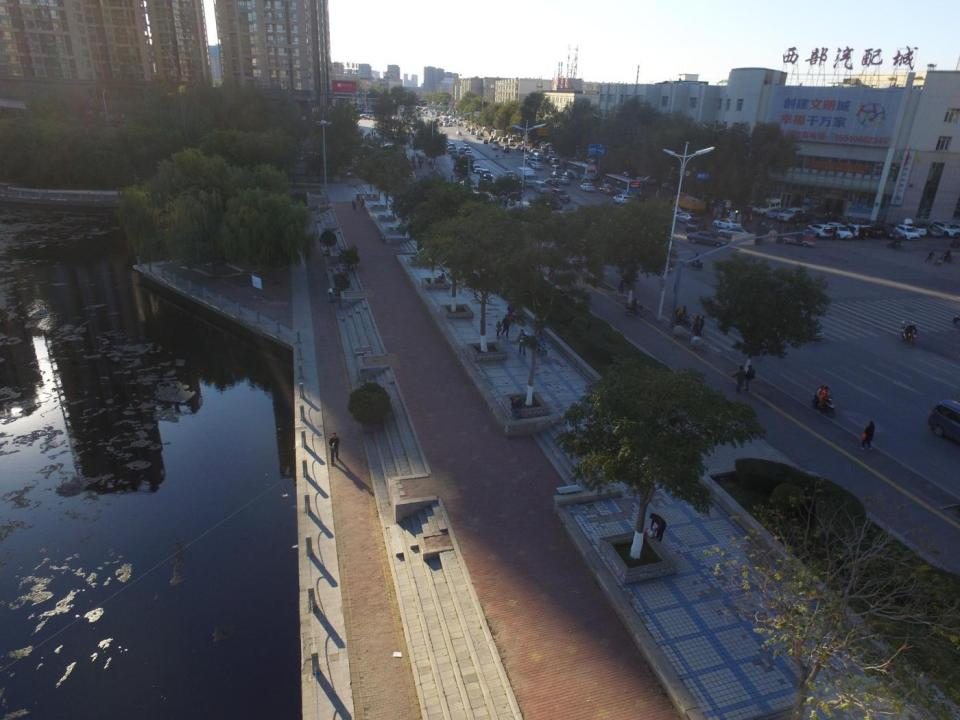bus: (603, 173, 642, 199), (565, 159, 597, 181)
car: (781, 307, 826, 340), (685, 230, 729, 247), (718, 227, 755, 241), (932, 219, 959, 238), (860, 220, 885, 240), (828, 220, 853, 240), (903, 218, 929, 237), (876, 220, 901, 239), (807, 224, 835, 240), (895, 223, 919, 241), (842, 221, 870, 236), (921, 221, 944, 239), (712, 218, 742, 231), (664, 203, 690, 217), (792, 211, 818, 225), (611, 193, 635, 208), (623, 191, 647, 206), (685, 218, 708, 232), (550, 188, 571, 203), (636, 173, 660, 186), (544, 195, 564, 210), (766, 208, 790, 219), (673, 212, 697, 223), (503, 170, 520, 185), (638, 176, 661, 187), (478, 169, 494, 181), (598, 183, 615, 194), (578, 182, 596, 192), (580, 177, 597, 187), (554, 176, 572, 185), (543, 178, 558, 188), (562, 170, 575, 180), (550, 170, 564, 179), (533, 153, 546, 162), (471, 164, 482, 174), (520, 154, 532, 163), (532, 163, 544, 170), (446, 146, 456, 154), (501, 146, 510, 154), (462, 143, 471, 151), (502, 144, 510, 152), (451, 150, 458, 158), (448, 142, 455, 150), (466, 150, 473, 157), (491, 144, 499, 150), (474, 133, 482, 139), (446, 140, 452, 148), (493, 140, 500, 146), (519, 146, 527, 151), (459, 148, 465, 154), (476, 132, 482, 138), (515, 144, 522, 149), (482, 139, 488, 144), (456, 131, 462, 136), (470, 130, 476, 135), (476, 130, 481, 136), (479, 131, 484, 136), (466, 128, 472, 132), (464, 124, 469, 128), (470, 126, 475, 130), (459, 121, 462, 126), (471, 127, 476, 130), (458, 123, 462, 126)
truck: (669, 194, 707, 215), (518, 166, 538, 187), (492, 129, 503, 138)
van: (751, 197, 782, 214), (777, 206, 804, 221), (532, 180, 548, 194), (526, 156, 543, 166), (550, 164, 562, 174), (549, 157, 560, 167), (508, 138, 516, 146), (545, 150, 555, 156), (488, 136, 495, 144), (501, 136, 508, 144), (489, 132, 496, 137), (497, 136, 503, 141)
